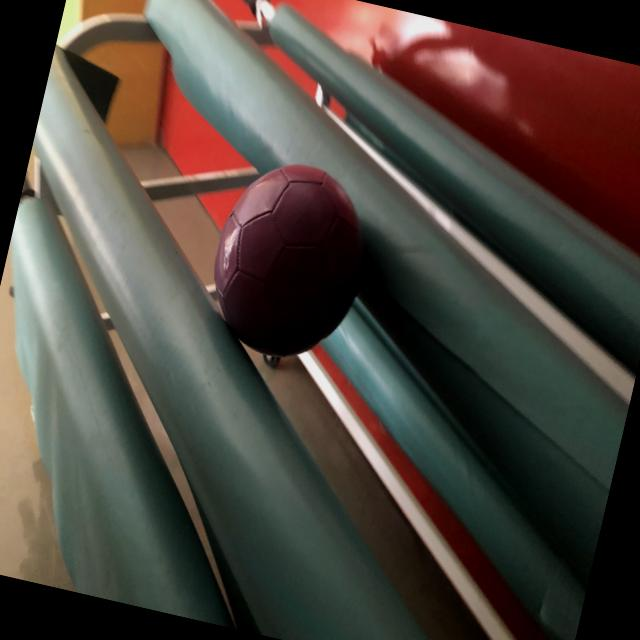purple_ball: (197, 150, 382, 368)
